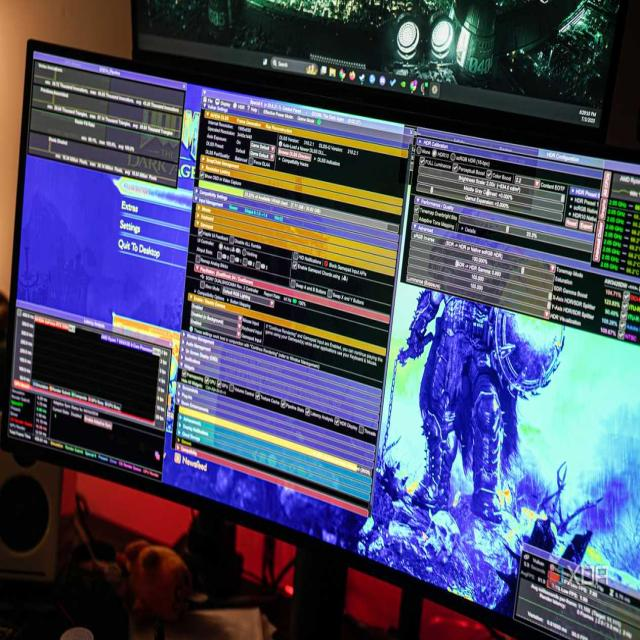electronics: (2, 43, 639, 636), (9, 59, 410, 514), (132, 0, 626, 136), (134, 0, 625, 127), (9, 309, 170, 476), (56, 494, 128, 639), (56, 497, 129, 639), (0, 451, 61, 582), (178, 510, 242, 596), (291, 549, 346, 638), (131, 607, 263, 639), (0, 580, 68, 639), (397, 589, 423, 636), (0, 294, 8, 398), (0, 296, 8, 395), (60, 627, 94, 639), (0, 618, 21, 636), (0, 294, 8, 337), (0, 337, 6, 387), (0, 338, 6, 376), (636, 109, 639, 140), (22, 229, 29, 237), (324, 84, 330, 90), (0, 376, 3, 387), (0, 398, 3, 404), (209, 81, 216, 83), (36, 168, 40, 171), (124, 577, 125, 579), (398, 118, 398, 119)
